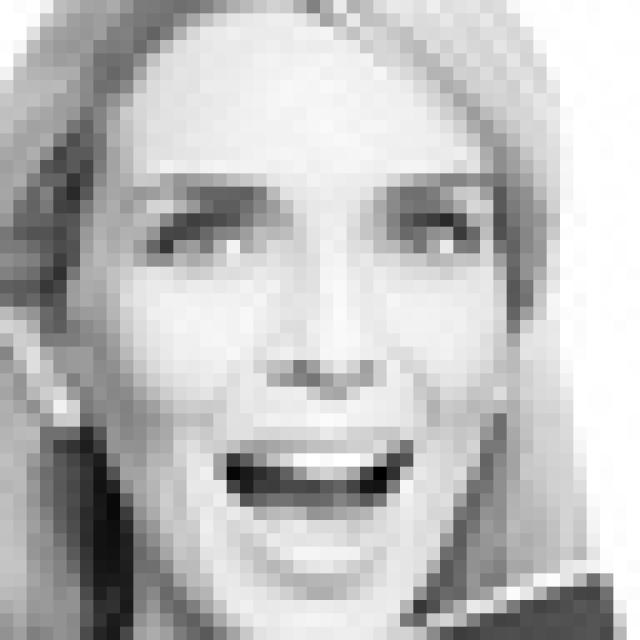happy: (106, 111, 495, 608)
